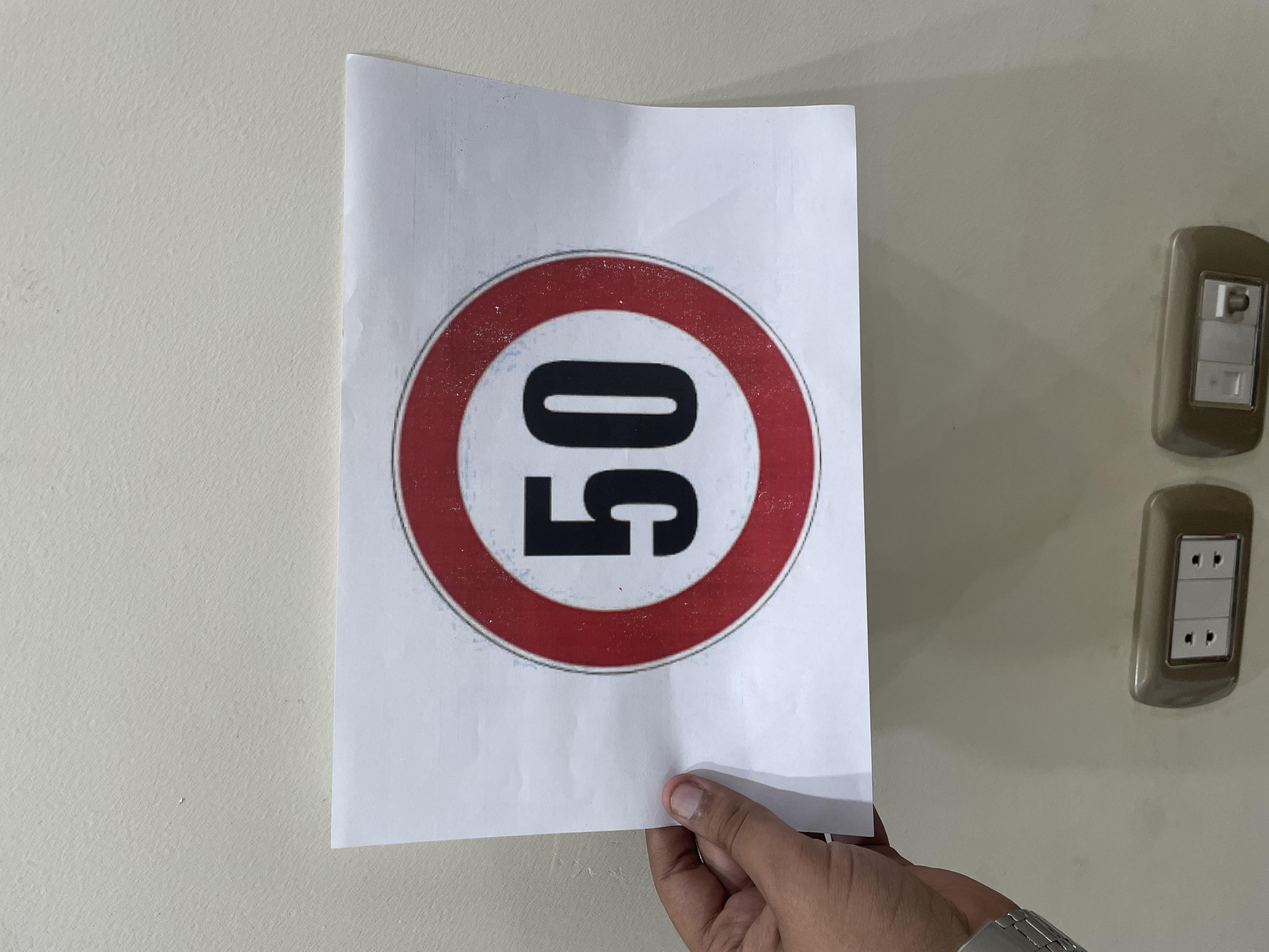50-Speed: (370, 284, 949, 613)
